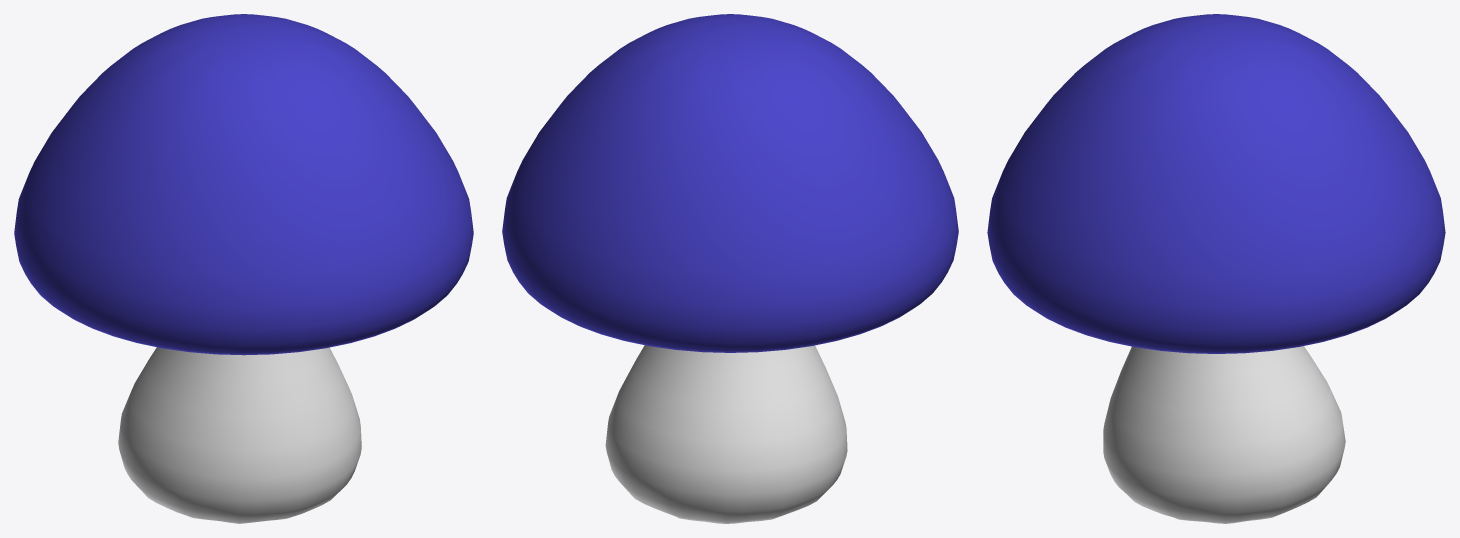
Rendered from MushMANNNN.fbx.
3 renders of one model, left to right at view 1: azimuth 30°, elevation 25°; view 2: azimuth 150°, elevation 25°; view 3: azimuth 270°, elevation 25°, orthographic.
Parts seen in each view (by area): view 1: Circle.001, Circle; view 2: Circle.001, Circle; view 3: Circle.001, Circle.
Part boxes in pixels (<box>): Circle.001: <box>14,14,473,355</box>; Circle: <box>118,347,361,523</box>; Circle.001: <box>502,14,958,352</box>; Circle: <box>605,345,847,523</box>; Circle.001: <box>987,14,1445,353</box>; Circle: <box>1103,346,1345,523</box>.
Bounding box in the file's own units: 342 × 383 × 342.
